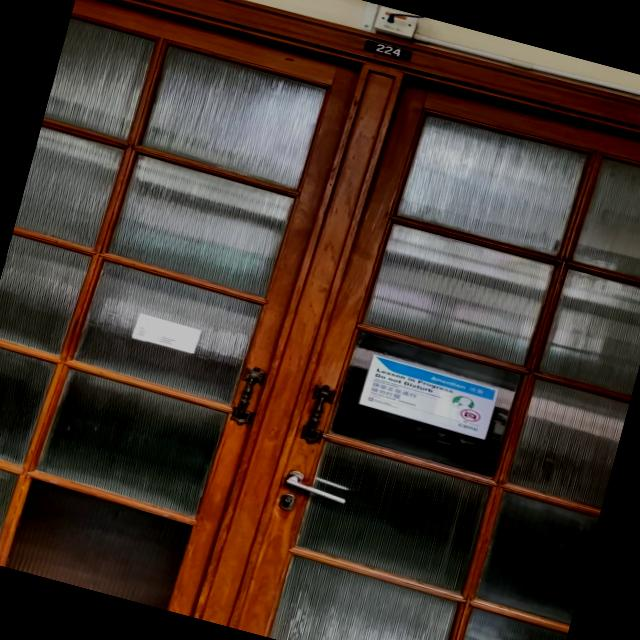room224: (361, 38, 415, 64)
room224Window: (339, 402, 491, 468)
